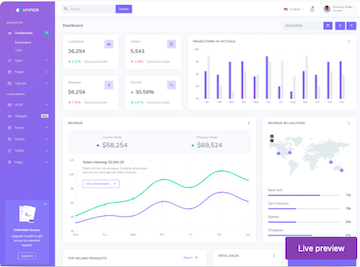

The dashboard page shown, as its layout file describes it:
{"tool":"powerbi","page":{"name":"Page 1","canvas":[1280,720],"ordinal":0},"visuals":[{"type":"esriVisual","fields":{"Location":["Vinzari.City"],"Size":["Sum(Vinzari.Sales)"]},"box":[10.1,0,461.9,268.8],"z":0},{"type":"lineChart","fields":{"Category":["Vinzari.Attribute"],"Y":["Sum(Vinzari.Value)"],"Series":["Vinzari.Product"]},"box":[492.2,26.9,740.8,241.9],"z":1000},{"type":"clusteredBarChart","fields":{"Category":["Vinzari.Years"],"Series":["Vinzari.Product"],"Y":["Sum(Vinzari.Sales)"]},"box":[10.1,268.8,1249.8,451.9],"z":1001}]}

Visuals, with their boxes on the page's 1280x720 design canvas (x1, y1, x2, y2). These are canvas units, not pixel positions in the 360x267 screenshot, which may show the page scaled, cropped or inside an application window:
esriVisual - Vinzari.City x Sum(Vinzari.Sales): locate(10, 0, 472, 269)
lineChart - Vinzari.Attribute x Sum(Vinzari.Value): locate(492, 27, 1233, 269)
clusteredBarChart - Vinzari.Years x Vinzari.Product: locate(10, 269, 1260, 721)
